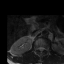CCS_normal: (40, 45, 42, 54)
LFS_stenosis: (45, 46, 47, 52)
LLS_normal: (42, 45, 44, 52)
RFS_normal: (36, 45, 37, 52)
RLS_normal: (37, 45, 40, 51)
